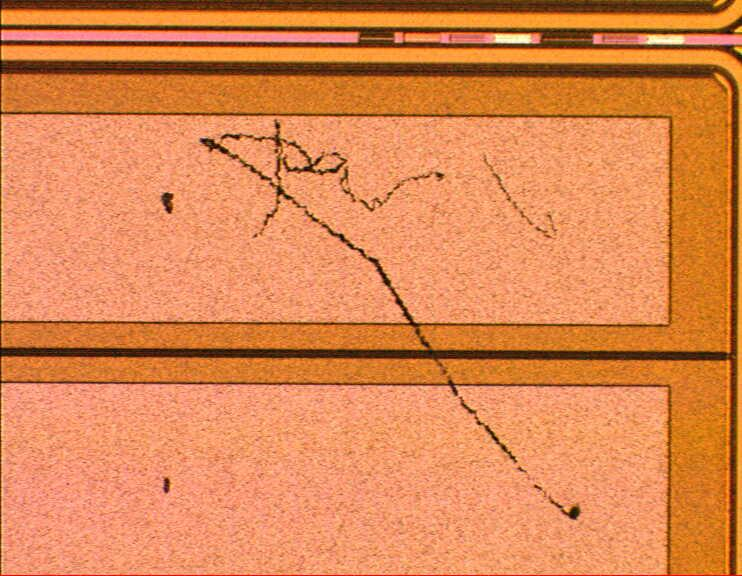SCRATCH: (199, 118, 584, 525)
